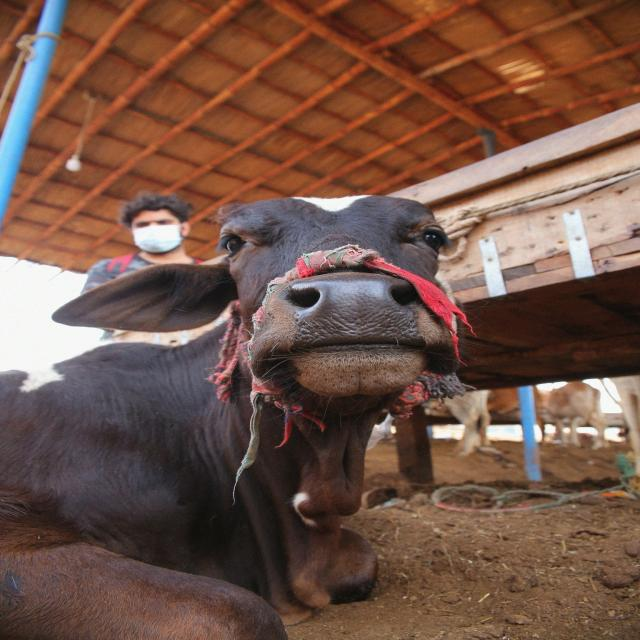muzzles: (278, 275, 443, 355)
